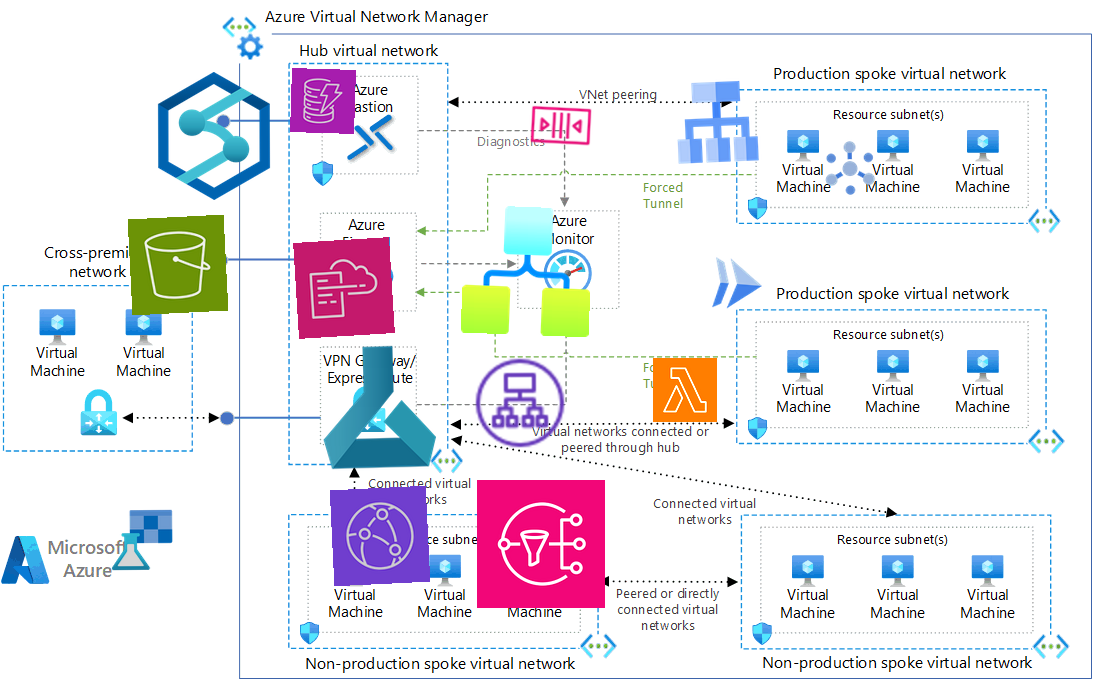aws_amazon_cloudfront: (329, 485, 431, 587)
aws_amazon_dynamodb: (290, 68, 356, 134)
aws_amazon_simple_notification_service: (476, 479, 606, 609)
aws_amazon_simple_storage_service: (127, 214, 229, 316)
aws_cloudformation: (293, 237, 395, 339)
aws_elastic_load_balancing_application_load_balancer: (471, 354, 569, 452)
aws_lambda: (652, 357, 718, 423)
aws_simple_queue_service_queue: (527, 91, 595, 159)
azure_logic_apps: (460, 204, 594, 338)
azure_machine_learning: (313, 341, 445, 473)
azure_machine_learning_studio_workspaces: (109, 507, 175, 573)
azure_synapse_analytics: (149, 71, 279, 201)
gcp_cloud_load_balancing: (667, 72, 767, 172)
gcp_cloud_run: (702, 249, 772, 319)
gcp_pubsub: (817, 135, 883, 201)
